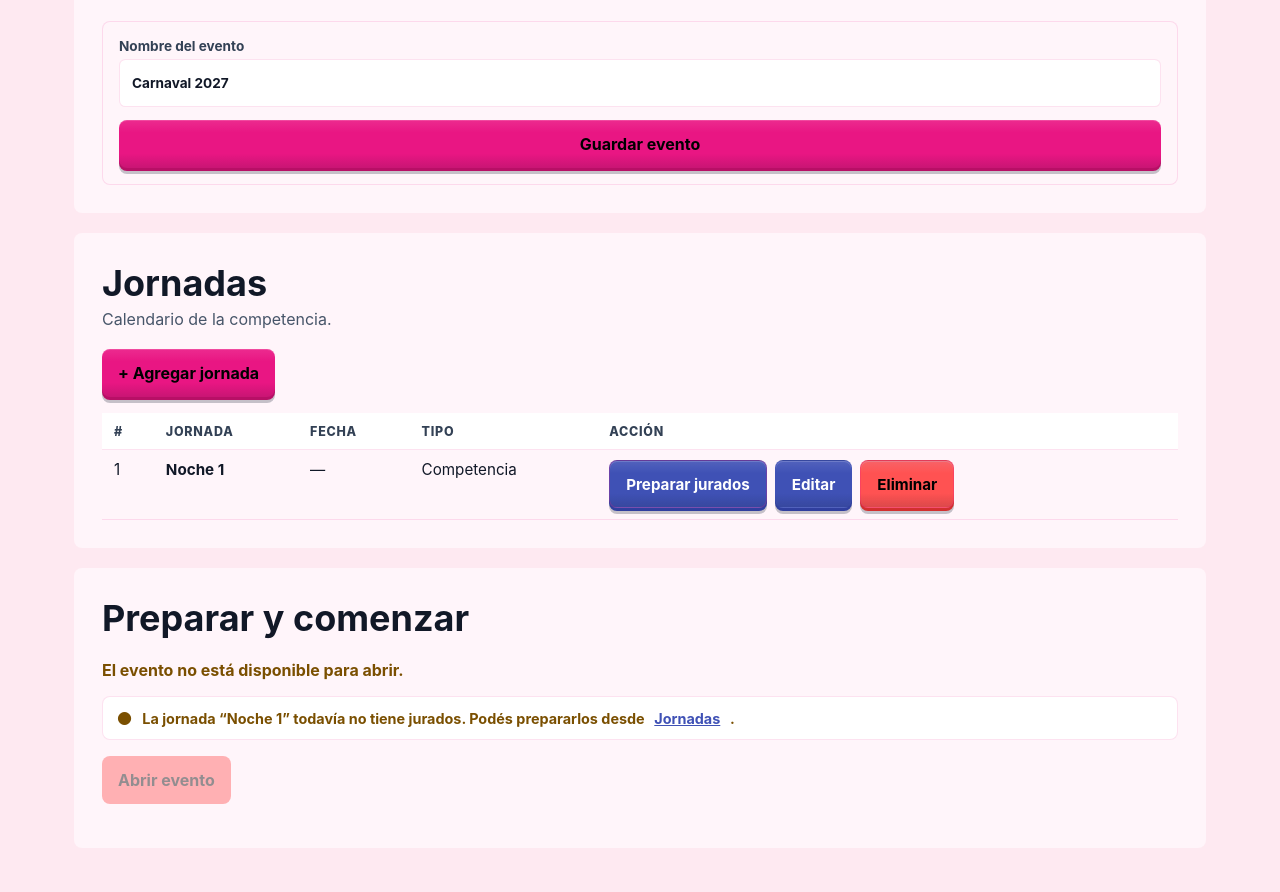
Test: EventConfigurationPage › abre la gestión de jurados desde la jornada en preparación
This screenshot has width=1280, height=892.
(page scrolled)
Step 1. Click the link with aria-label "Preparar jurados en Jornadas" → [687, 718], box x1=654 y1=710 x2=720 y2=727
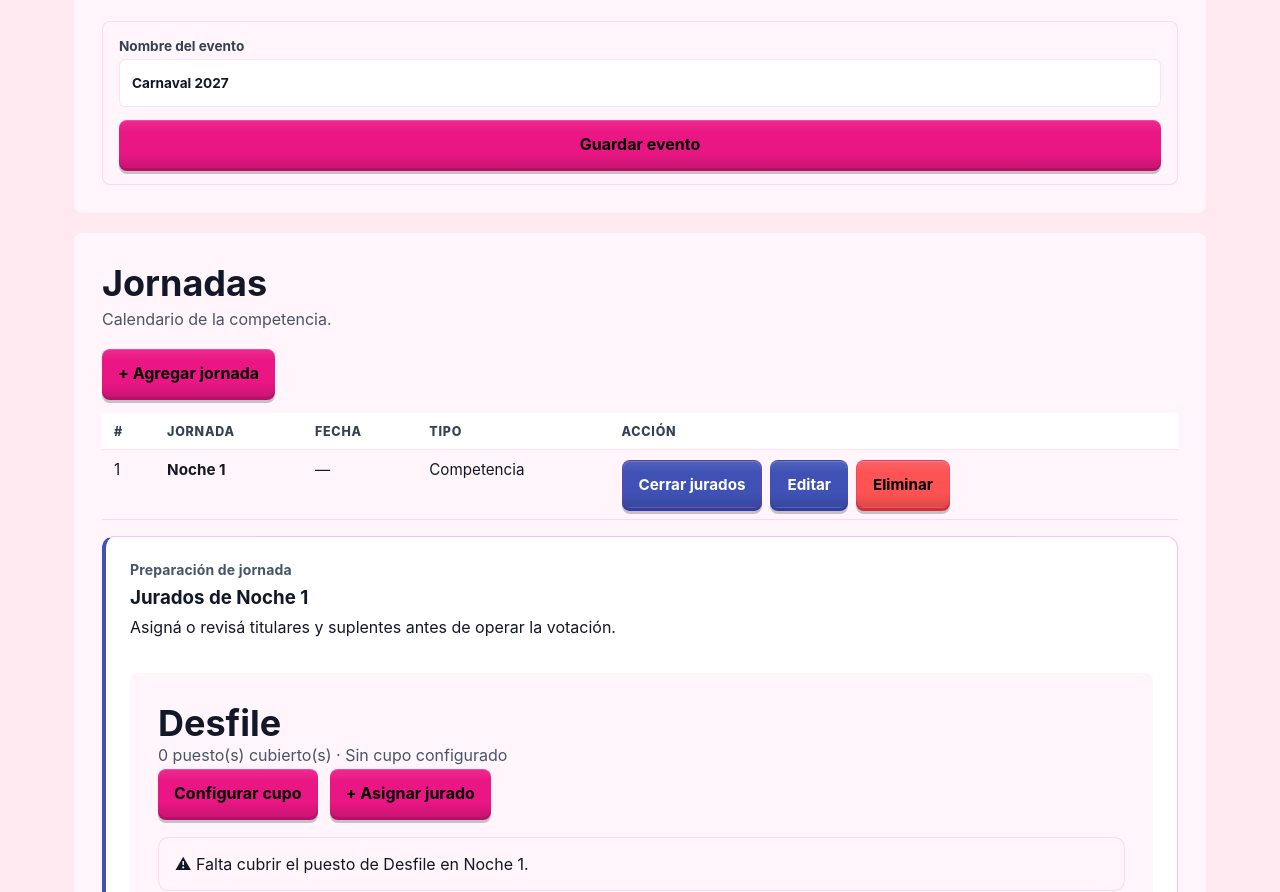
Result: the button "+ Asignar jurado" is enabled at x1=330 y1=769 x2=491 y2=817
